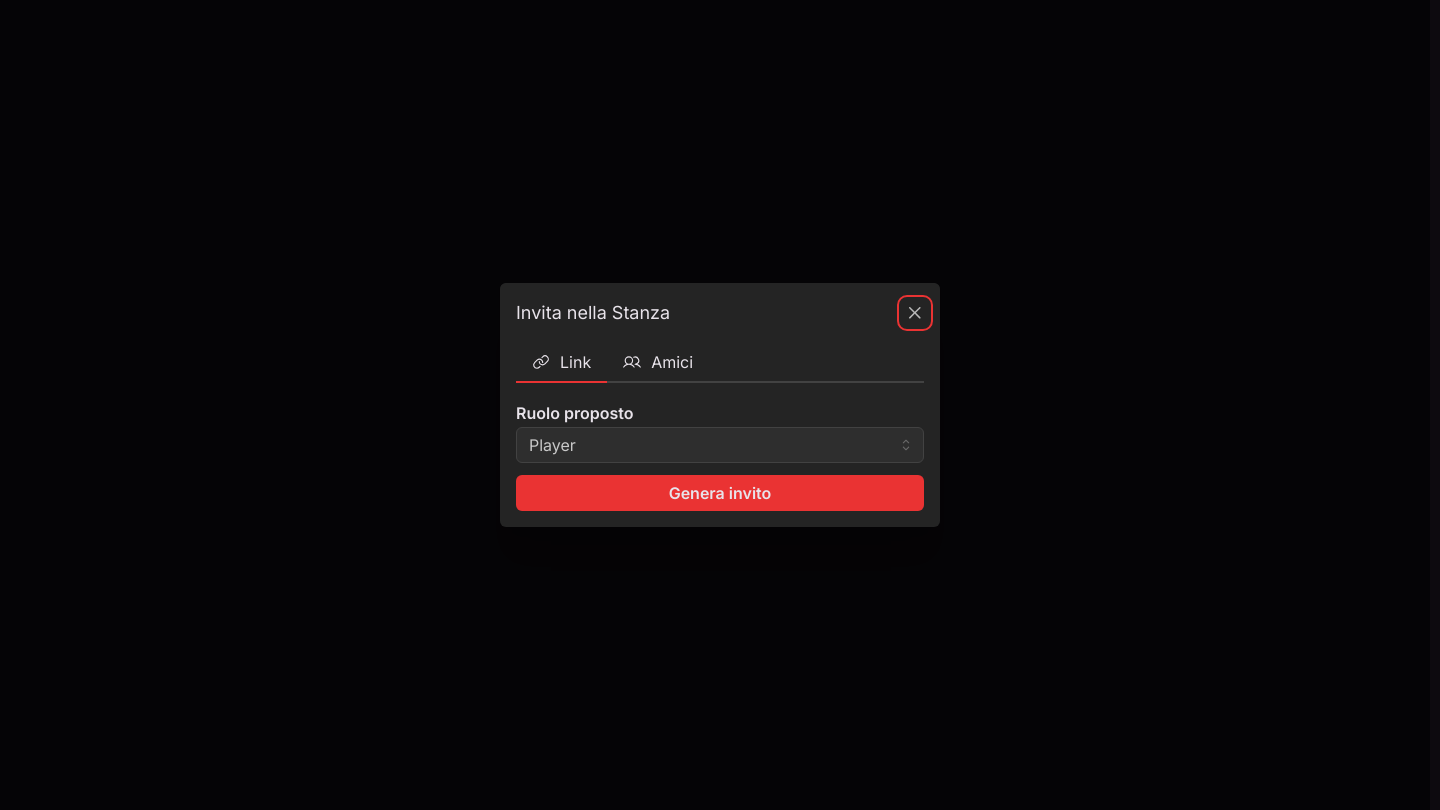
Test: InviteModal Friends tab › says when the Friends cannot be loaded
Click the tab "Amici": (658,363) [607, 343, 709, 383]
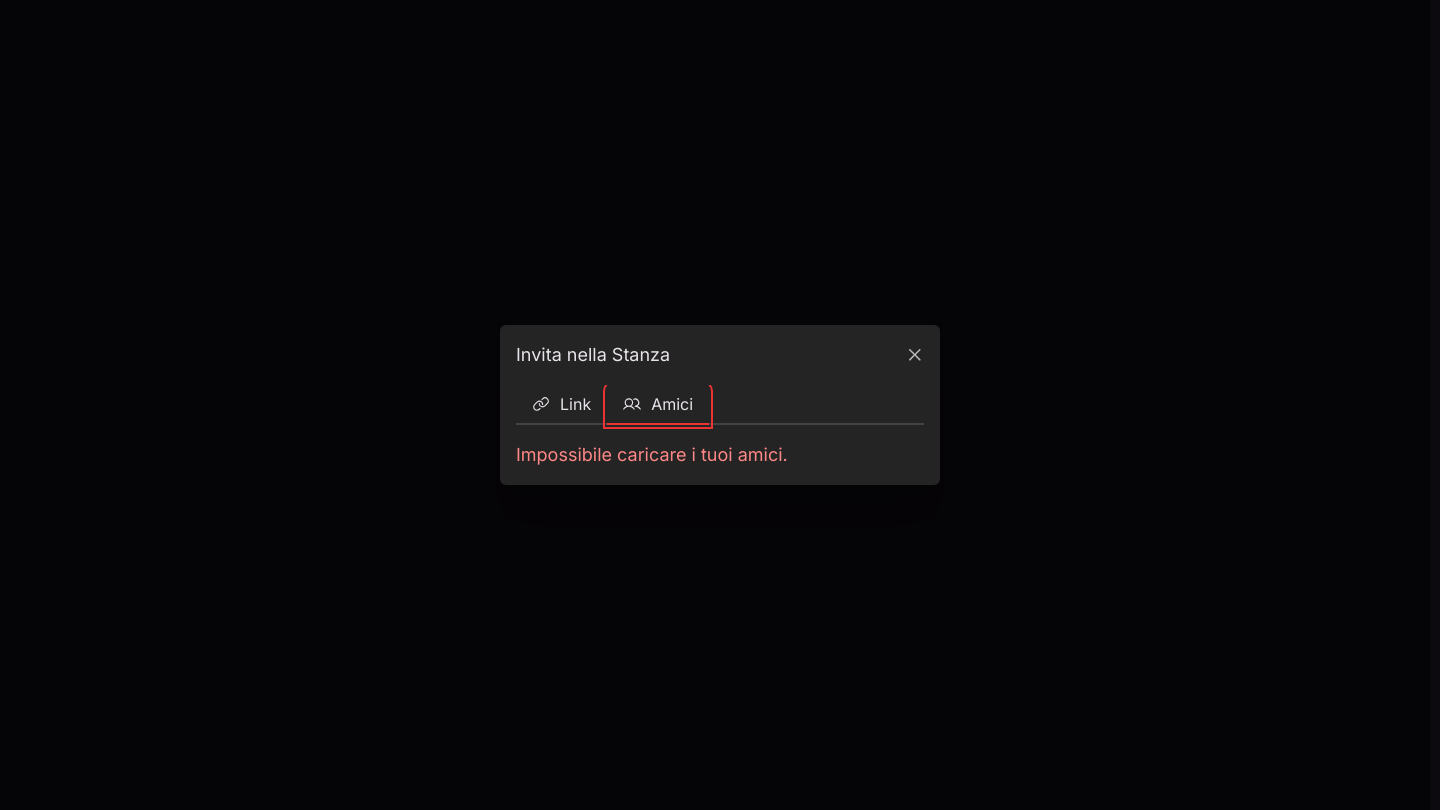
Expected: the text "Impossibile caricare i tuoi amici." is shown, [516, 444, 788, 465]
